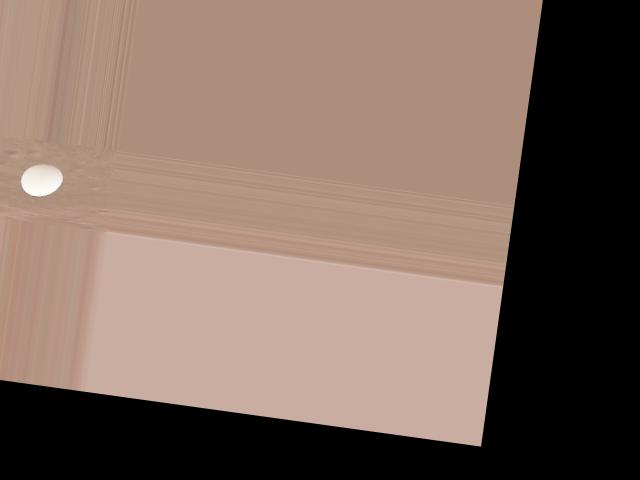egg: (19, 161, 65, 199)
